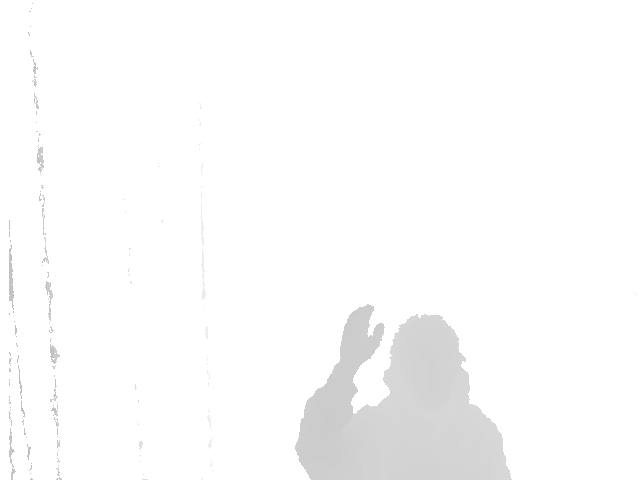hand: (335, 301, 387, 374)
head: (384, 314, 471, 408)
person: (292, 300, 507, 480)
